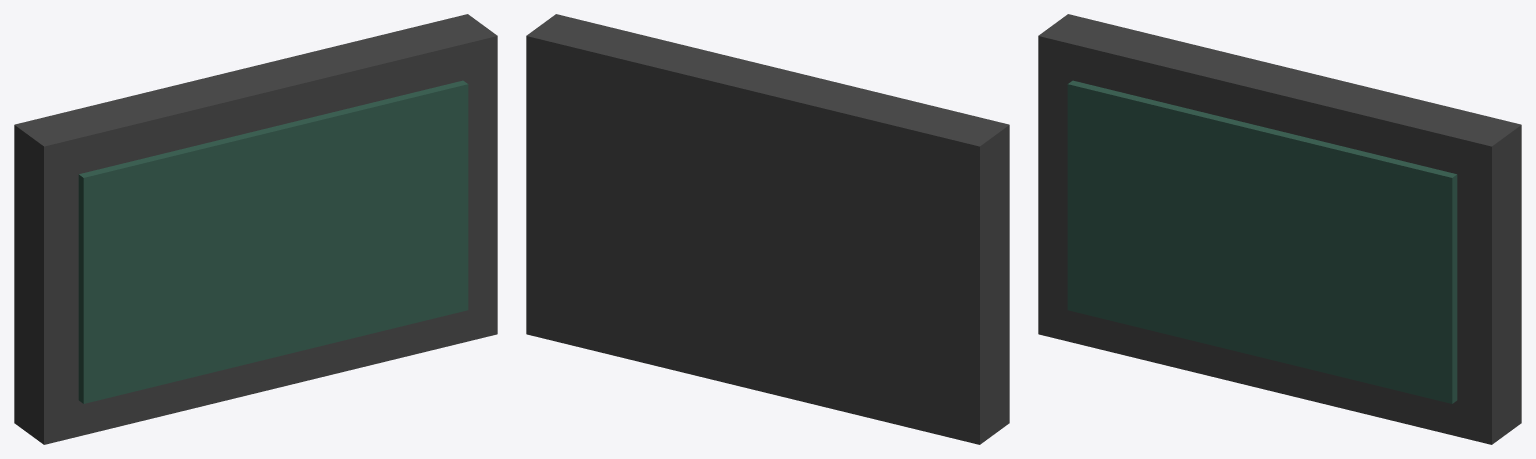
The model's file is display-4in.glb.
The picture shows the model from 3 angles, left to right: view 1: azimuth 30°, elevation 25°; view 2: azimuth 150°, elevation 25°; view 3: azimuth 330°, elevation 25°; orthographic projection.
Parts seen in each view (by area): view 1: geometry_1, geometry_0; view 2: geometry_0; view 3: geometry_1, geometry_0.
Part boxes in pixels (bbox=[...]): geometry_1: bbox=[78, 80, 468, 403]; geometry_0: bbox=[14, 14, 497, 444]; geometry_0: bbox=[526, 14, 1009, 444]; geometry_1: bbox=[1067, 80, 1457, 403]; geometry_0: bbox=[1038, 14, 1521, 444].
Bounding box in the file's own units: 0.105 × 0.066 × 0.014.
